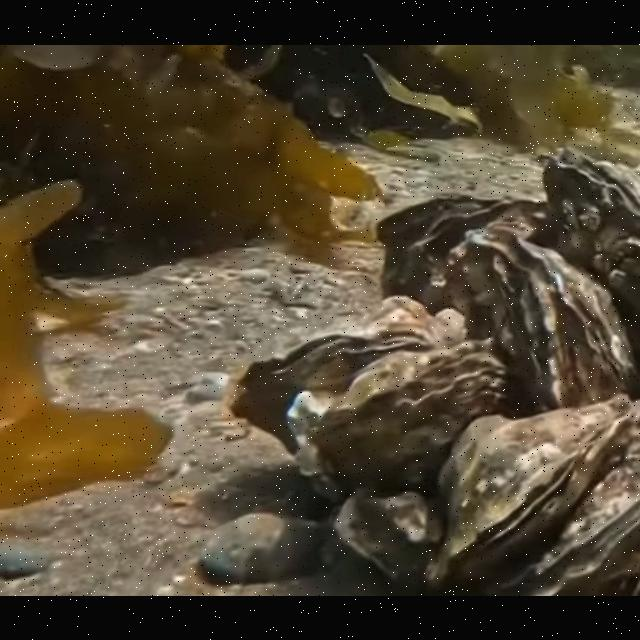Oyster-Closed: (287, 334, 508, 492), (488, 230, 640, 406)
Oyster-Open: (424, 391, 640, 583), (228, 328, 436, 457), (372, 193, 554, 311), (497, 456, 640, 595), (538, 144, 640, 322)
